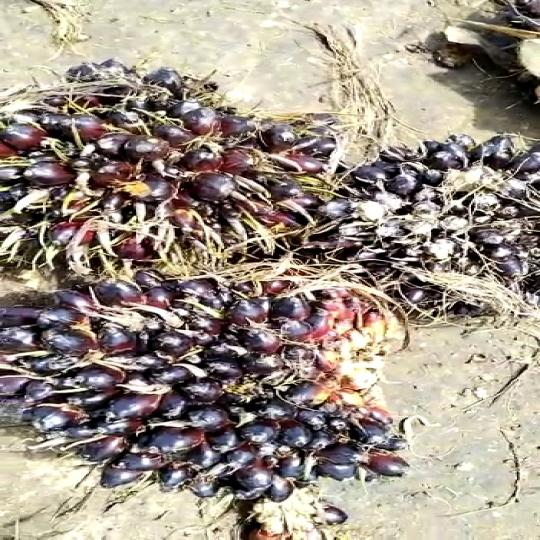mentah: (0, 275, 435, 492), (0, 58, 350, 299), (339, 134, 540, 322)
